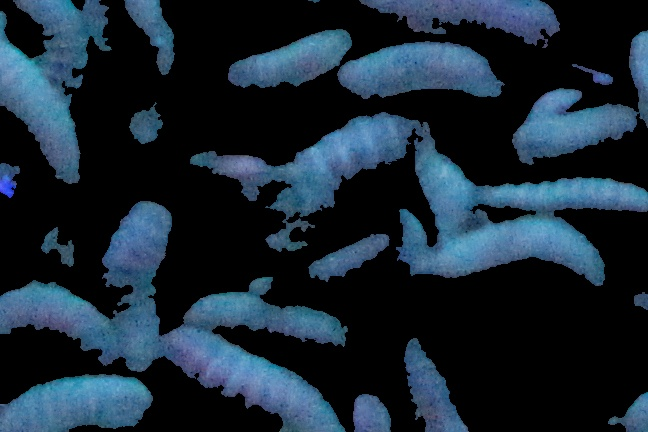larvae: (260, 119, 443, 258), (173, 334, 340, 432), (1, 32, 100, 196), (429, 220, 615, 303), (177, 291, 365, 369), (107, 201, 179, 372), (452, 156, 648, 213), (1, 286, 117, 382), (358, 1, 577, 48), (219, 24, 353, 100), (333, 44, 514, 98), (11, 1, 103, 101), (3, 372, 151, 426), (406, 133, 470, 237), (401, 337, 470, 432), (119, 1, 195, 86), (516, 112, 639, 155), (525, 86, 585, 125)
